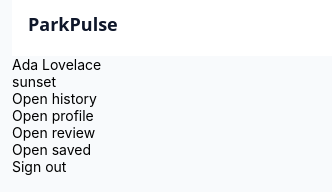
Test: AppNavigator › navigates to saved places from the map flow
Click the element with test id "navigator-open-saved-button" at (52, 150), box [12,141,91,158]
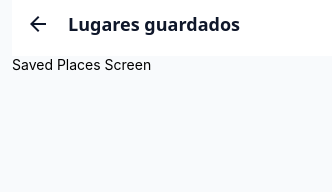
Check: the text "Saved Places Screen" is shown, box [12,56,151,73]
